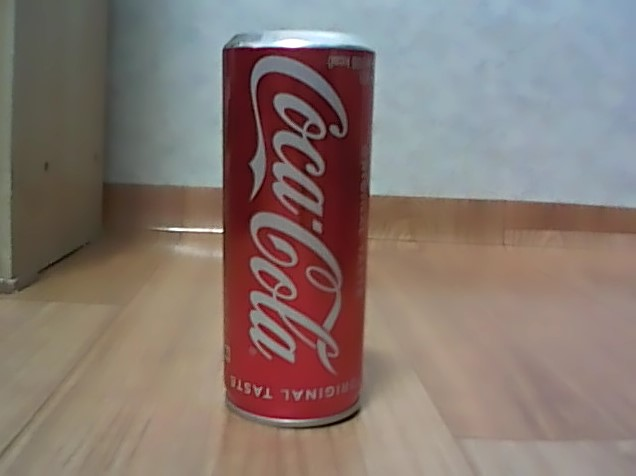Can: (215, 24, 381, 434)
